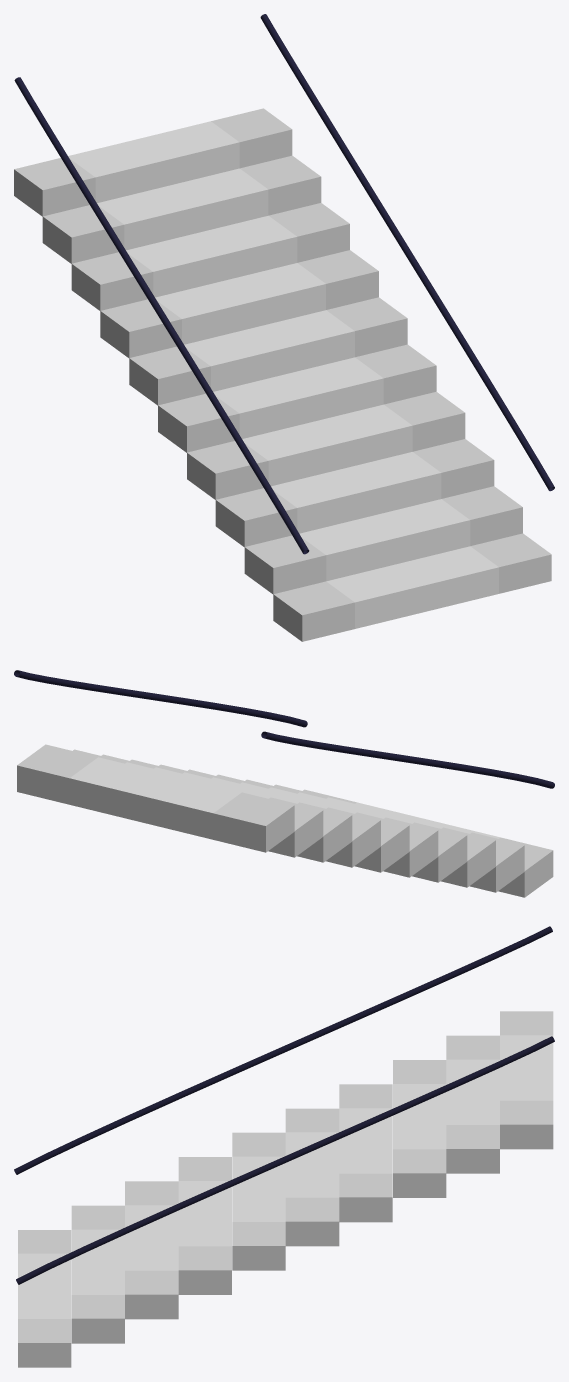
The model's file is Updated_Straight_Stairs.fbx.
The picture shows the model from 3 angles, top to bottom: view 1: azimuth 30°, elevation 25°; view 2: azimuth 150°, elevation 25°; view 3: azimuth 270°, elevation 25°; orthographic projection. The views are drawn at different scales.
Visible parts, largest first — view 1: Cube.023, BézierCurve.002, BézierCurve.003; view 2: Cube.023, BézierCurve.003, BézierCurve.002; view 3: Cube.023, BézierCurve.003, BézierCurve.002.
Boxes of the visible parts, x1,y1,x2,y2 form: Cube.023: (14, 108, 551, 641); BézierCurve.002: (14, 77, 309, 554); BézierCurve.003: (260, 14, 554, 491); Cube.023: (17, 744, 553, 897); BézierCurve.003: (14, 670, 307, 727); BézierCurve.002: (261, 731, 554, 788); Cube.023: (18, 1011, 553, 1367); BézierCurve.003: (16, 1036, 554, 1284); BézierCurve.002: (14, 926, 552, 1174).
Bounding box in the file's own units: 254 × 341 × 505.
